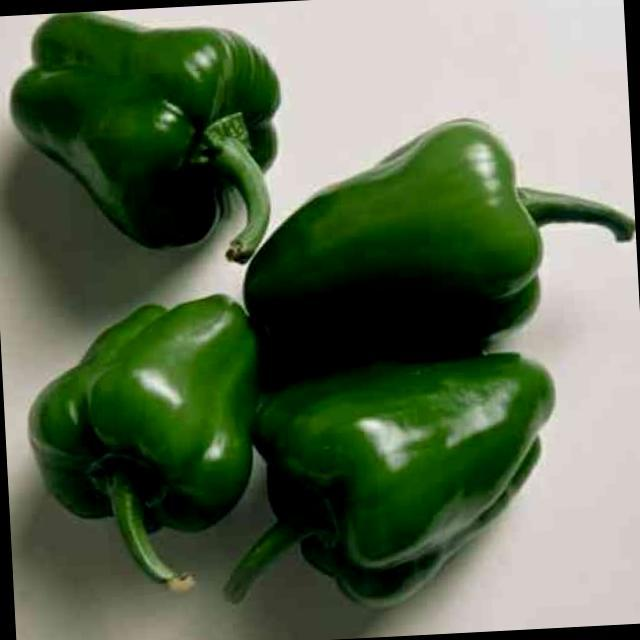Capsicum: (244, 119, 636, 387), (226, 349, 555, 608), (28, 298, 258, 591), (9, 13, 282, 259)
